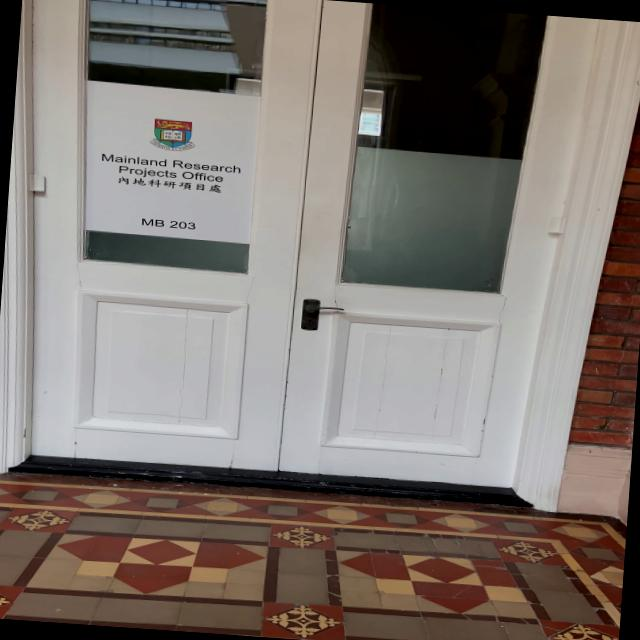room203Window: (132, 212, 202, 235)
